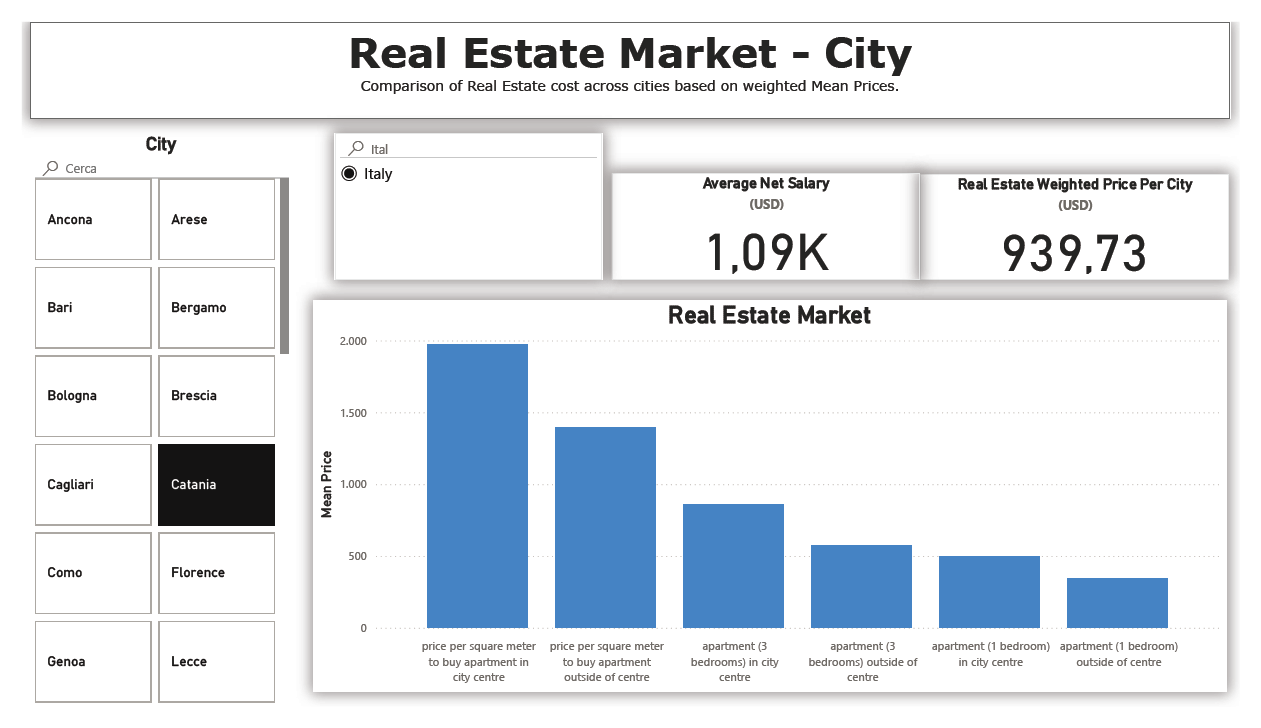

The dashboard page shown, as its layout file describes it:
{"tool":"powerbi","page":{"name":"Real-Estate","canvas":[1280,720],"ordinal":1},"visuals":[{"type":"advancedSlicerVisual","title":"City","fields":{"Values":["livingcost vw_valcar_transformed.CityName"]},"box":[8.7,117.3,276.6,602.5],"z":0},{"type":"textbox","box":[9,0,1260.9,101.6],"z":1000},{"type":"card","title":"Real Estate Weighted Price","fields":{"Values":["livingcost vw_valcar_transformed.Avg_RealEstate_City"]},"box":[943.8,159.5,325,111.7],"z":2000},{"type":"columnChart","title":"Real Estate Market","fields":{"Y":["livingcost vw_valcar_transformed.MeanPrice_RealEstate"],"Category":["livingcost vw_valcar_transformed.Paramethers"]},"box":[304,292,962,412],"z":3000},{"type":"card","title":"Average Net Salary","fields":{"Values":["livingcost vw_valcar_transformed.Avg_Salary_City"]},"box":[619.9,159.3,324.4,111.5],"z":4000},{"type":"listSlicer","fields":{"Values":["livingcost vw_valcar_transformed.Country"]},"box":[304,118,306,152],"z":5000}]}

Visuals, with their boxes in screenshot pixels (x1, y1, x2, y2), scaled from the page's 1280x720 canvas onto the 1261x728 screenshot:
"City" advancedSlicerVisual: 9,119,281,727
textbox: 9,0,1251,103
"Real Estate Weighted Price" card: 930,161,1250,274
"Real Estate Market" columnChart: 299,295,1247,712
"Average Net Salary" card: 611,161,930,274
listSlicer - livingcost vw_valcar_transformed.Country: 299,119,601,273
